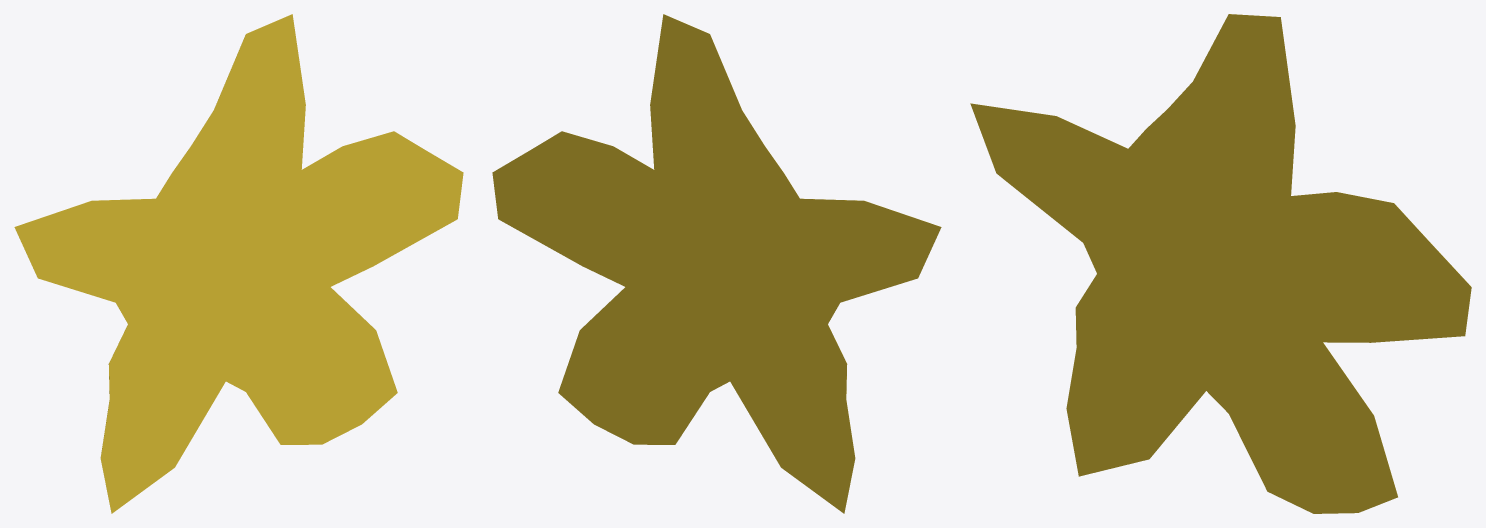
Rendered from splat_yellow.glb.
3 renders of one model, left to right at view 1: azimuth 30°, elevation 25°; view 2: azimuth 150°, elevation 25°; view 3: azimuth 330°, elevation 25°, orthographic. The views are drawn at different scales.
Parts seen in each view (by area): view 1: SM_PaintSplash; view 2: SM_PaintSplash; view 3: SM_PaintSplash.
Part boxes in pixels (left/top/right/bottom): SM_PaintSplash: left=14, top=14, right=463, bottom=513; SM_PaintSplash: left=492, top=14, right=941, bottom=513; SM_PaintSplash: left=970, top=14, right=1471, bottom=513.
Bounding box in the file's own units: 1.71 × 1.66 × 0.0005.
